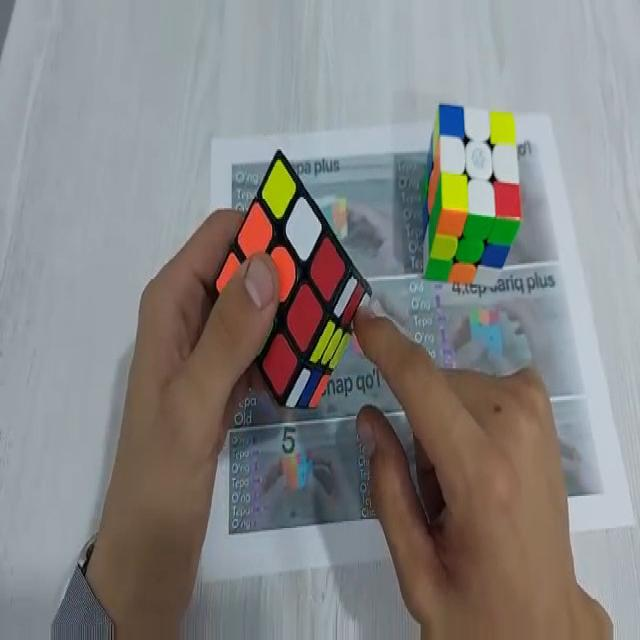Rub: (215, 146, 372, 410), (420, 103, 522, 284)
